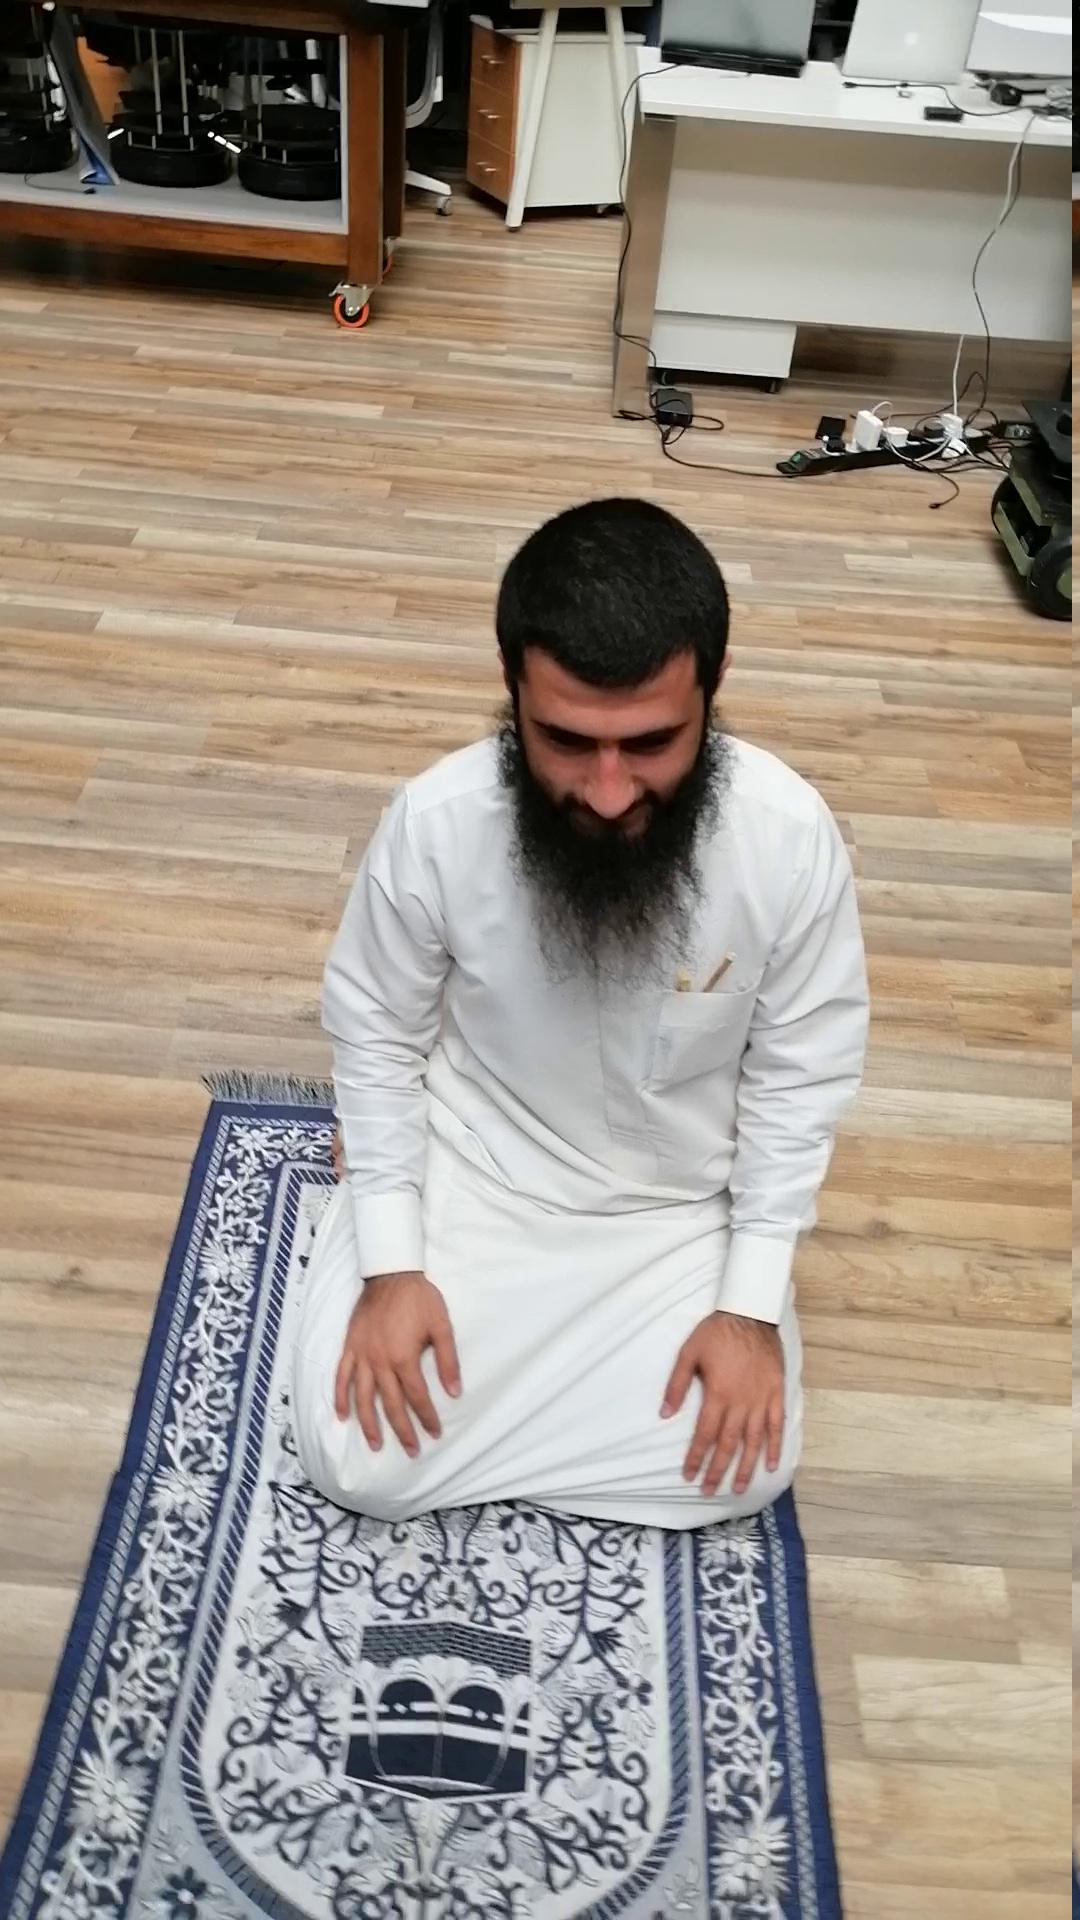julus: (295, 498, 869, 1528)
